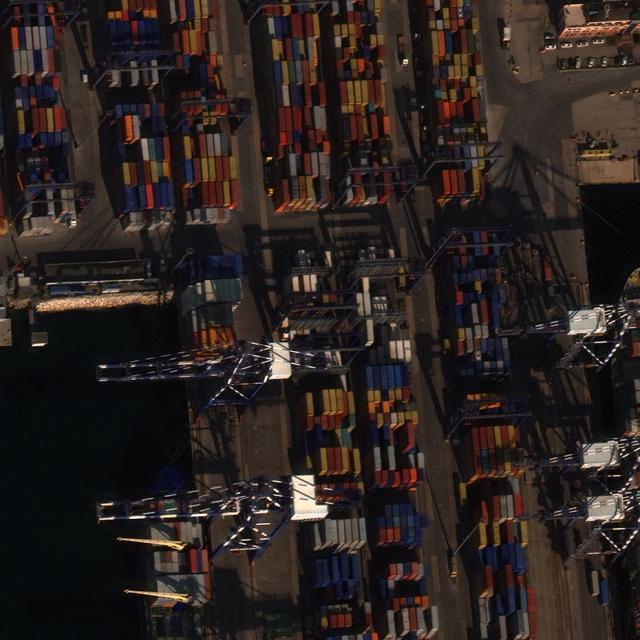Container Ship: (141, 463, 216, 640), (619, 265, 640, 634)
